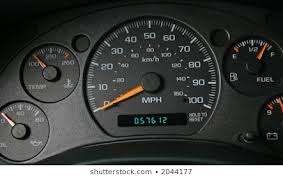Digital_Meter: (117, 111, 188, 128)
